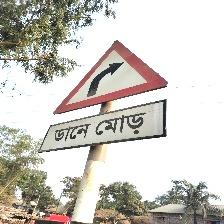Right-turn: (40, 39, 170, 152)
